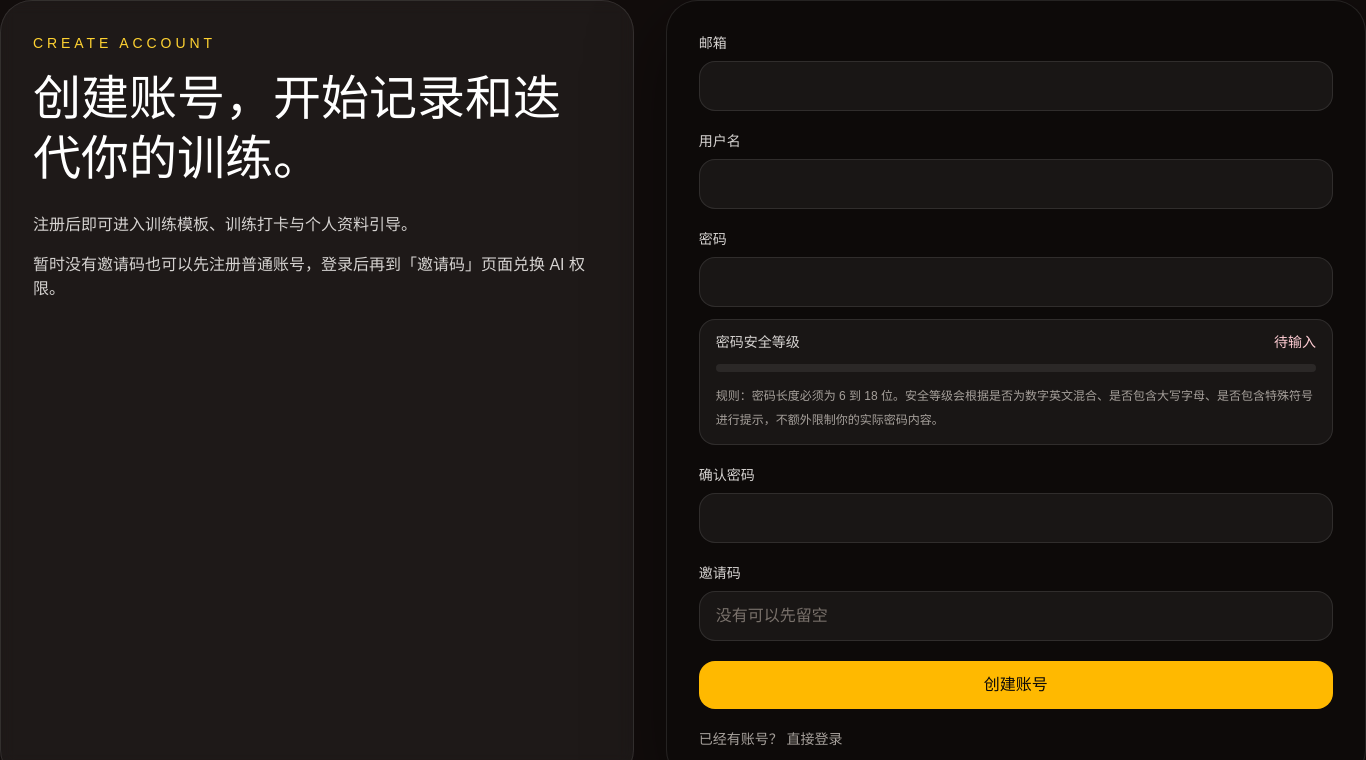
Scenario: RegisterPage › blocks submission when password confirmation does not match
Type "user@example.com" into the field labelled "邮箱". click: (1016, 86)
box: [699,61,1333,111]
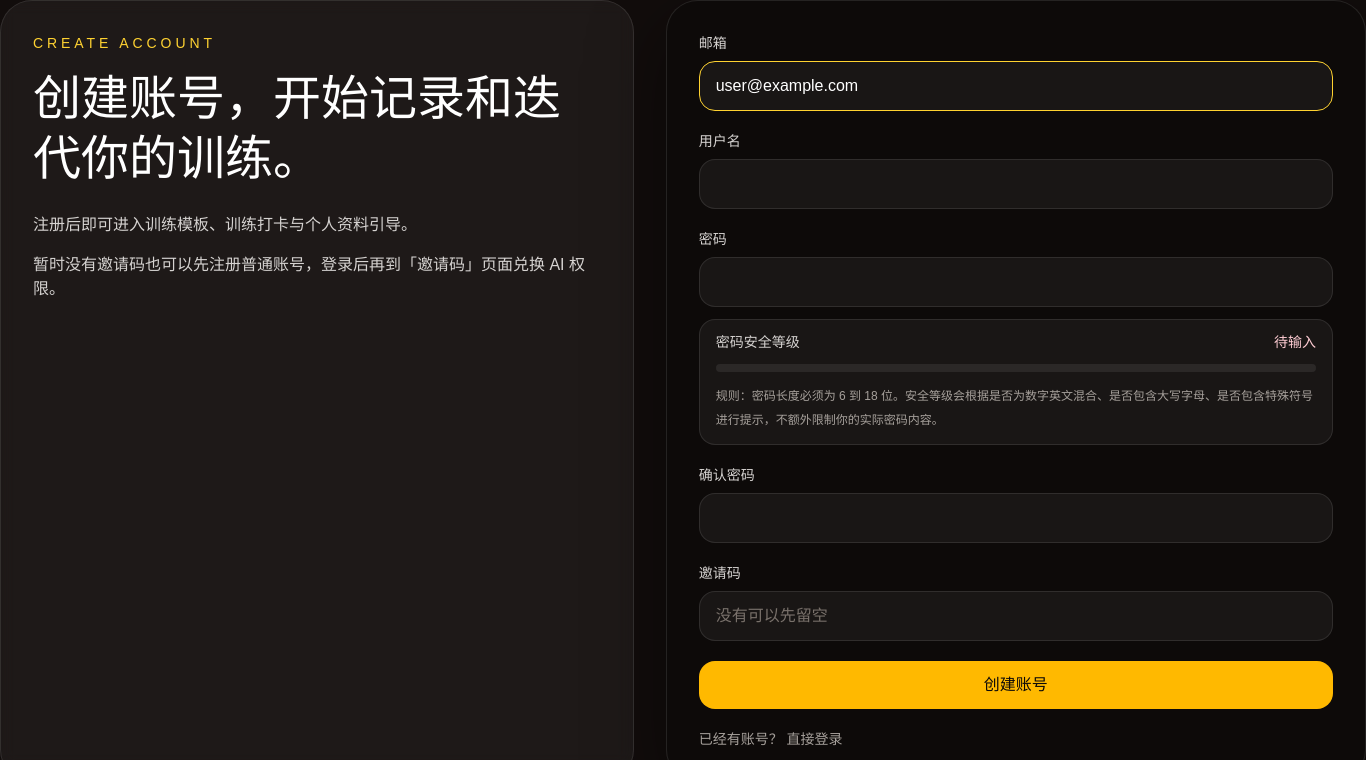
Type "dailyforge" into the field labelled "用户名". click: (1016, 184)
box: [699,159,1333,209]
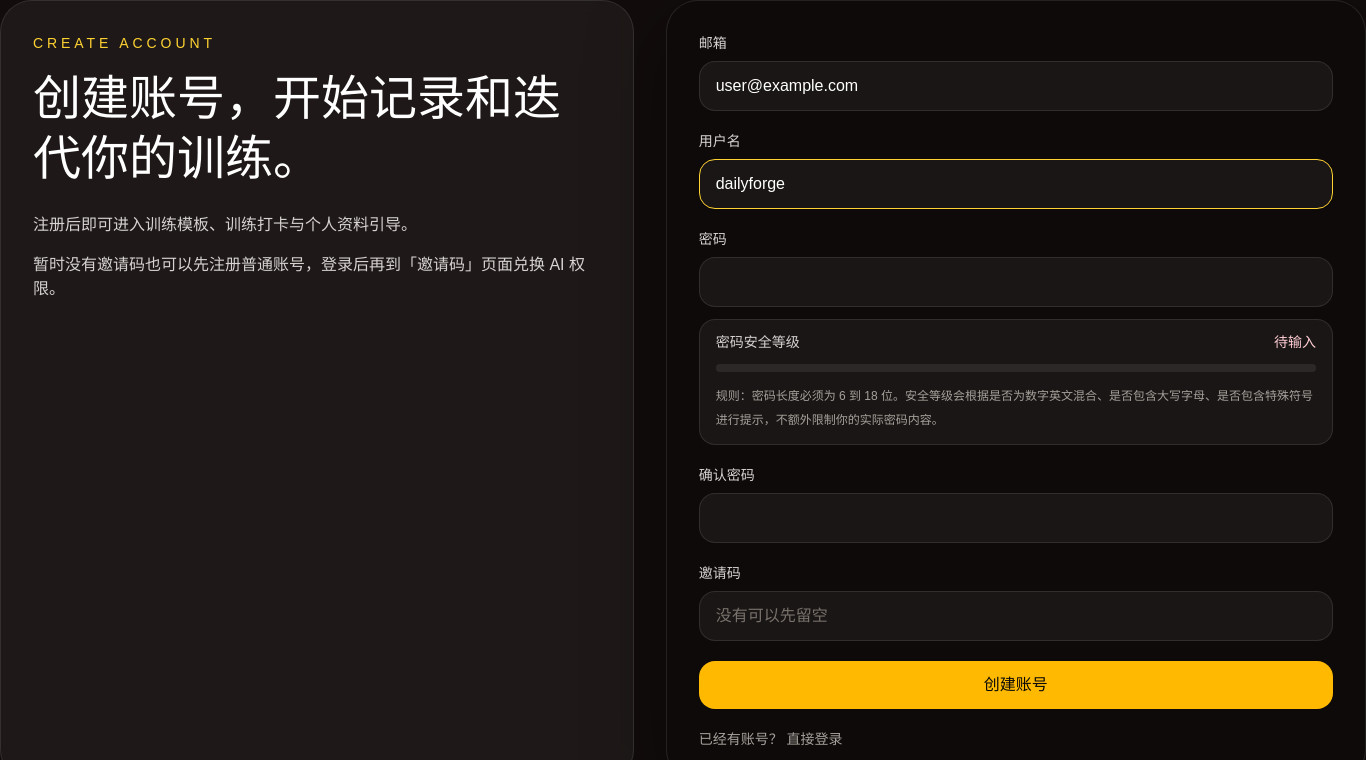
Type "Password1!" into the password field labelled "密码". click: (1016, 282)
box: [699,257,1333,307]
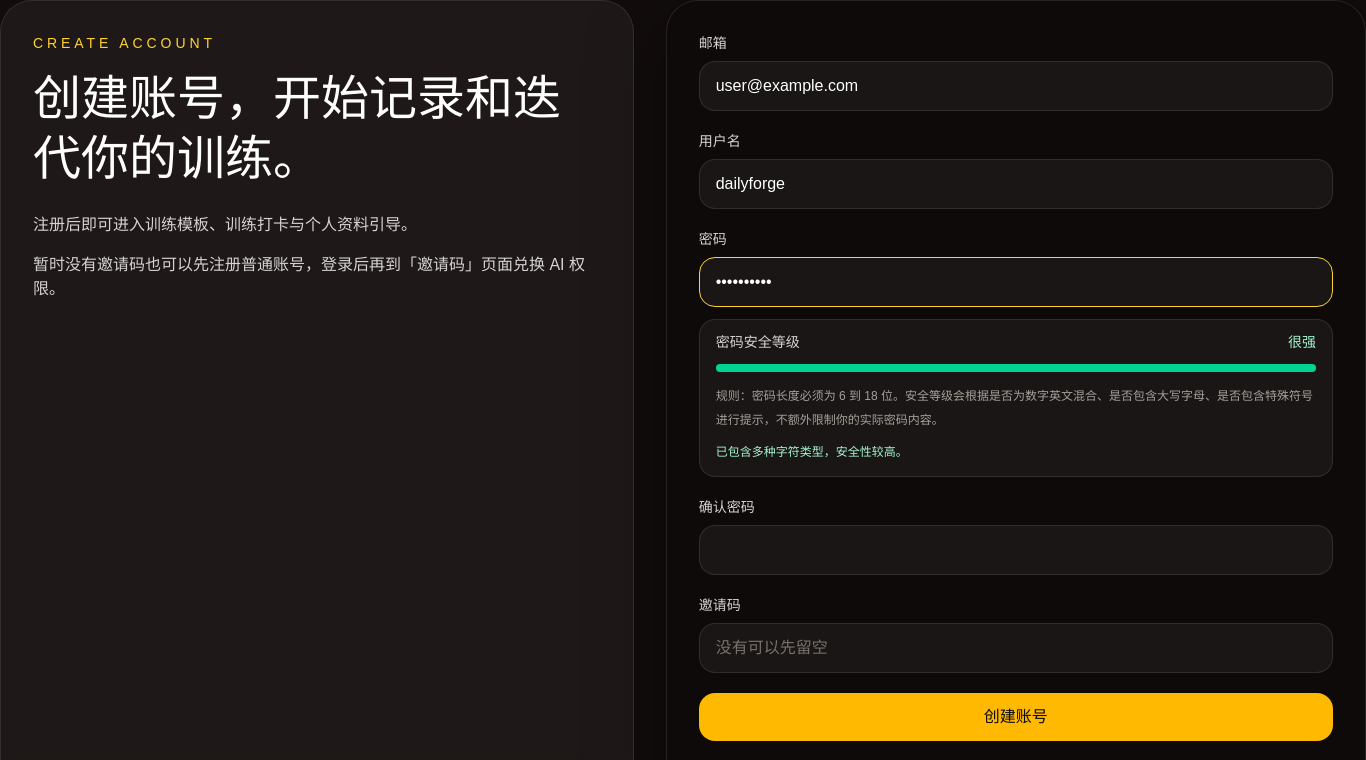
Type "Password2!" into the password field labelled "确认密码". click: (1016, 550)
box: [699,525,1333,575]
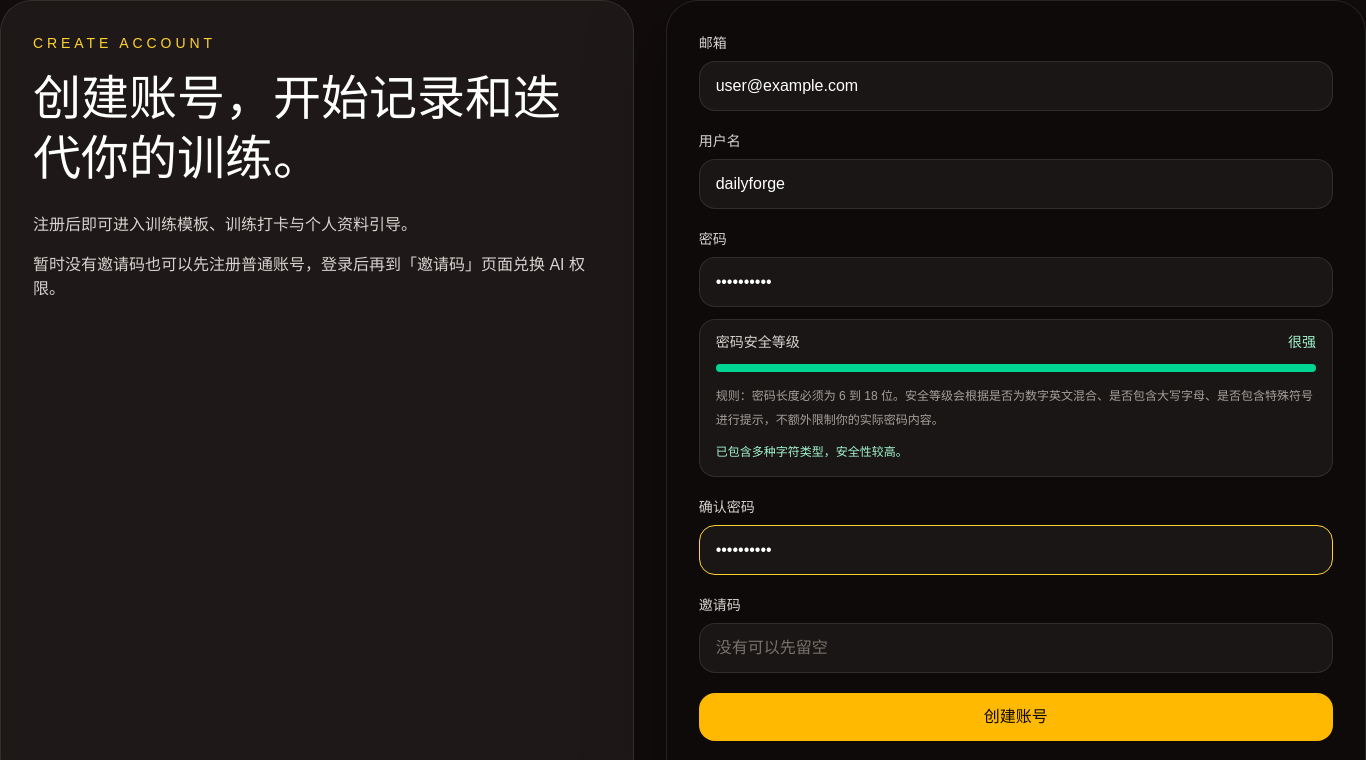
Click the button. click: click(1016, 717)
box: [699,693,1333,741]
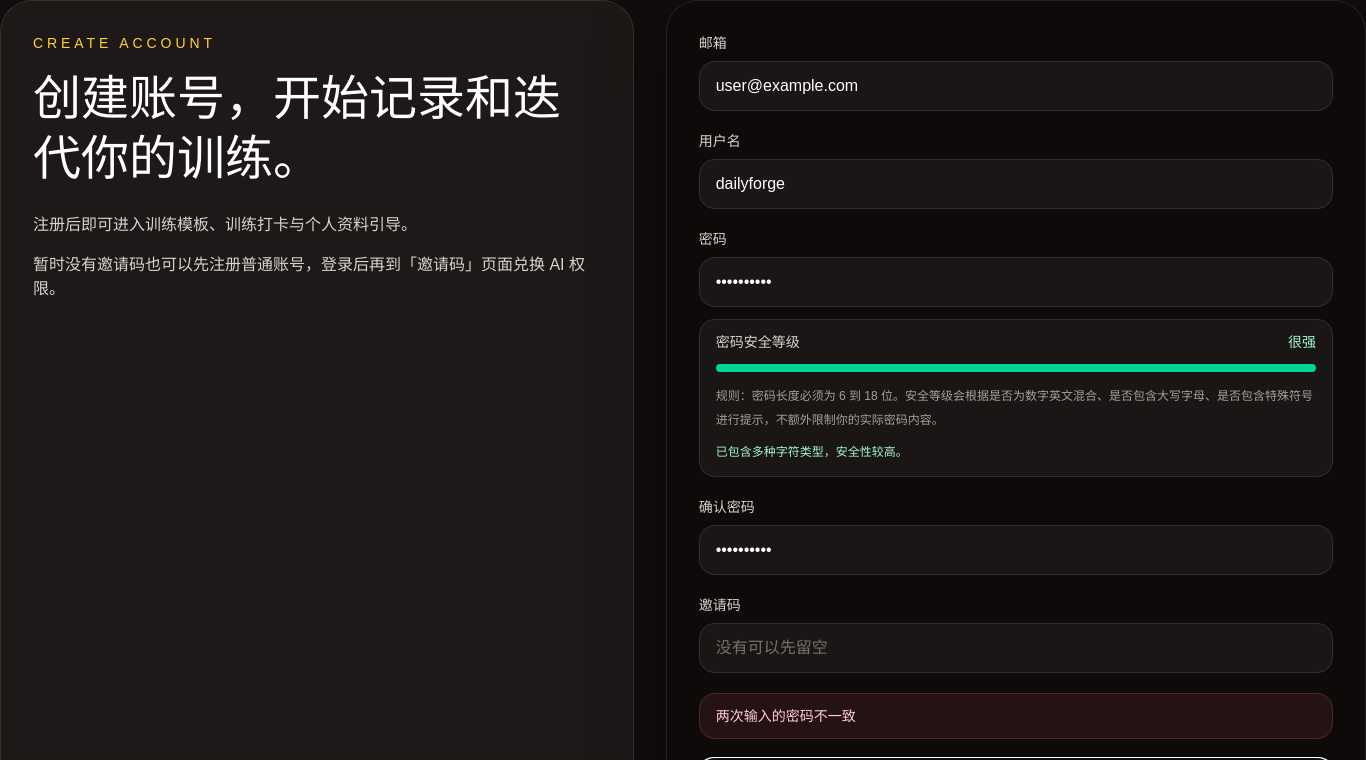
Check: the text "两次输入的密码不一致" is shown, box [699,693,1333,739]
